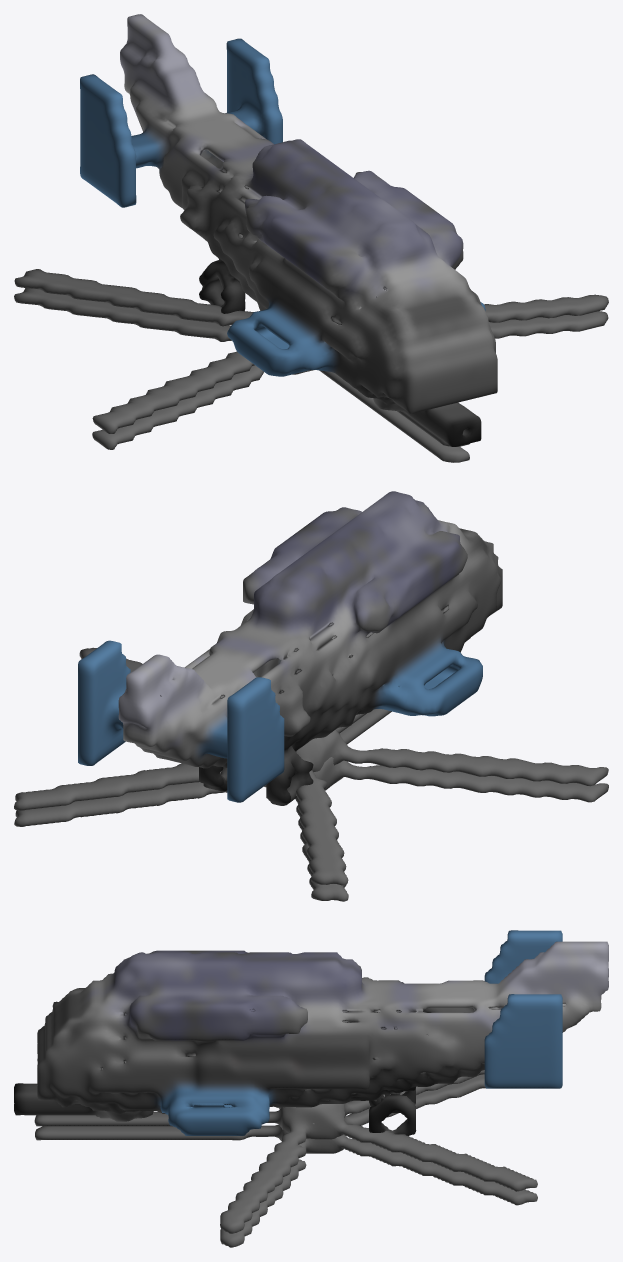
File: shad.glb
The picture shows the model from 3 angles, top to bottom: view 1: azimuth 30°, elevation 25°; view 2: azimuth 150°, elevation 25°; view 3: azimuth 270°, elevation 25°; orthographic projection. The views are drawn at different scales.
Parts seen in each view (by area): view 1: shad; view 2: shad; view 3: shad.
Boxes of the visible parts, left/top/right/bottom form: shad: left=14, top=14, right=608, bottom=462; shad: left=14, top=491, right=608, bottom=901; shad: left=14, top=930, right=608, bottom=1247.
Bounding box in the file's own units: 5.63 × 2.35 × 6.38.
